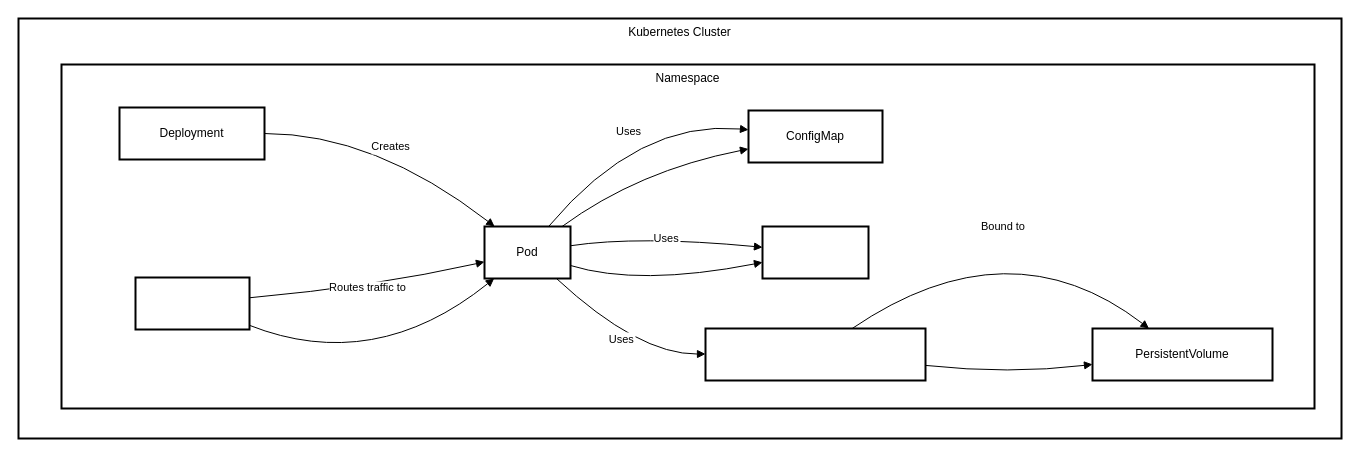
This 1359x456 diagram has some shape labels left out. Each missing label, with the centre of its shape:
"PersistentVolumeClaim" goes at pixel 815 354.
"Secret" goes at pixel 815 252.
"Service" goes at pixel 192 303.
